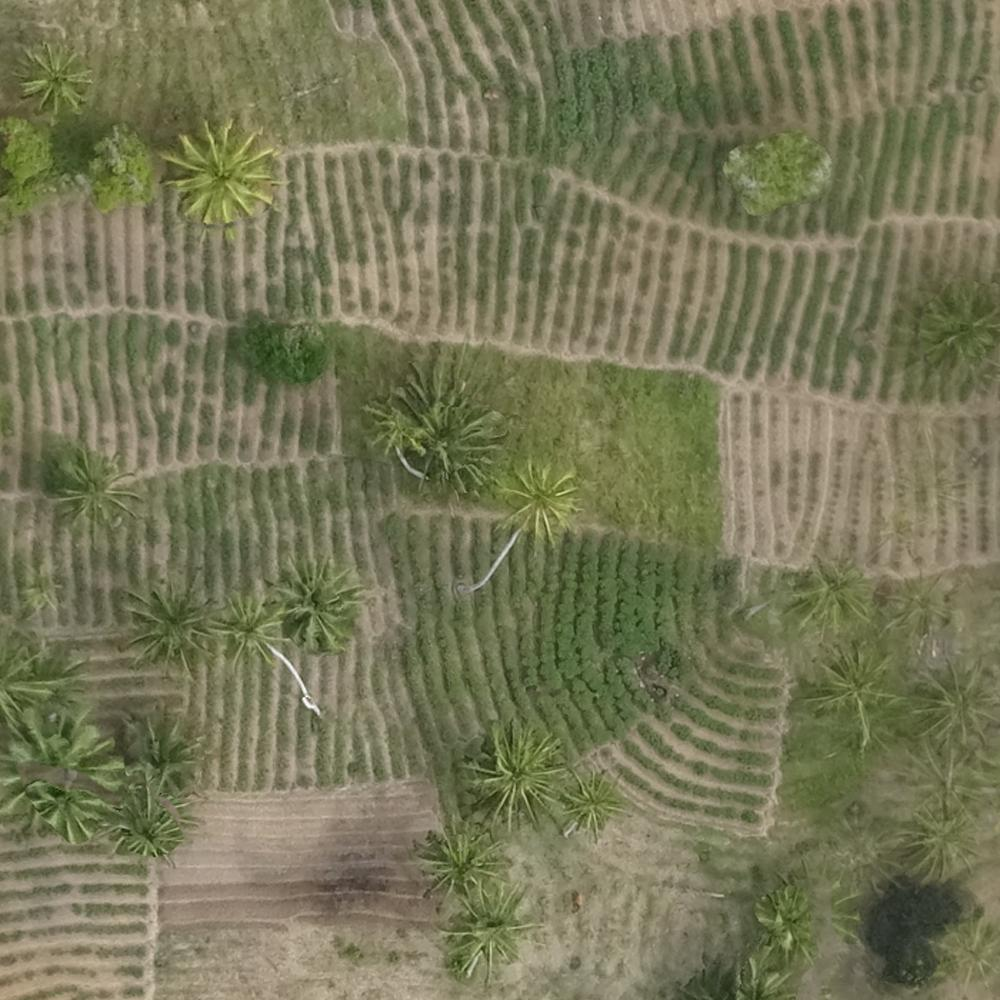Palm: (385, 363, 508, 494), (170, 123, 276, 224), (265, 554, 364, 660), (465, 724, 562, 830), (113, 574, 215, 674), (907, 271, 1000, 376), (809, 644, 901, 740), (447, 881, 535, 977), (114, 710, 209, 797), (50, 444, 143, 532), (910, 658, 998, 751), (416, 816, 507, 898), (101, 783, 181, 868), (498, 461, 579, 544), (210, 588, 287, 666), (24, 46, 91, 116), (562, 767, 622, 836)
